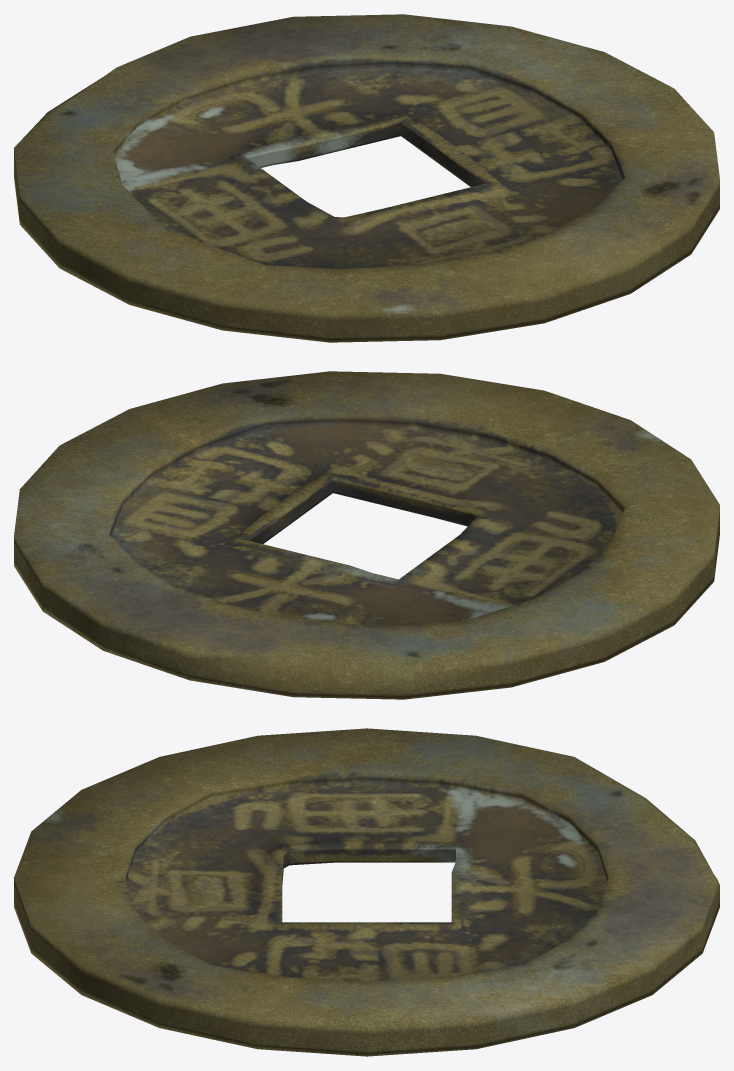
The model's file is COIN.glb.
3 views of the same model, one above another, from view 1: azimuth 30°, elevation 25°; view 2: azimuth 150°, elevation 25°; view 3: azimuth 270°, elevation 25° (orthographic).
Parts seen in each view (by area): view 1: Ancient_coins; view 2: Ancient_coins; view 3: Ancient_coins.
Boxes of the visible parts, x1=… form: Ancient_coins: x1=14, y1=14, x2=719, y2=342; Ancient_coins: x1=14, y1=371, x2=719, y2=699; Ancient_coins: x1=14, y1=728, x2=719, y2=1056.
Bounding box in the file's own units: 7.52 × 0.3707 × 7.52.
Materials: 1 (1 with a texture image).
